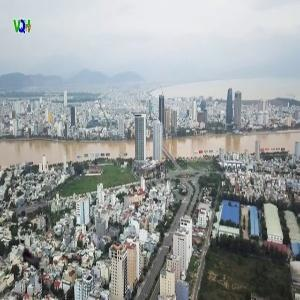drone: (1, 227, 66, 292)
